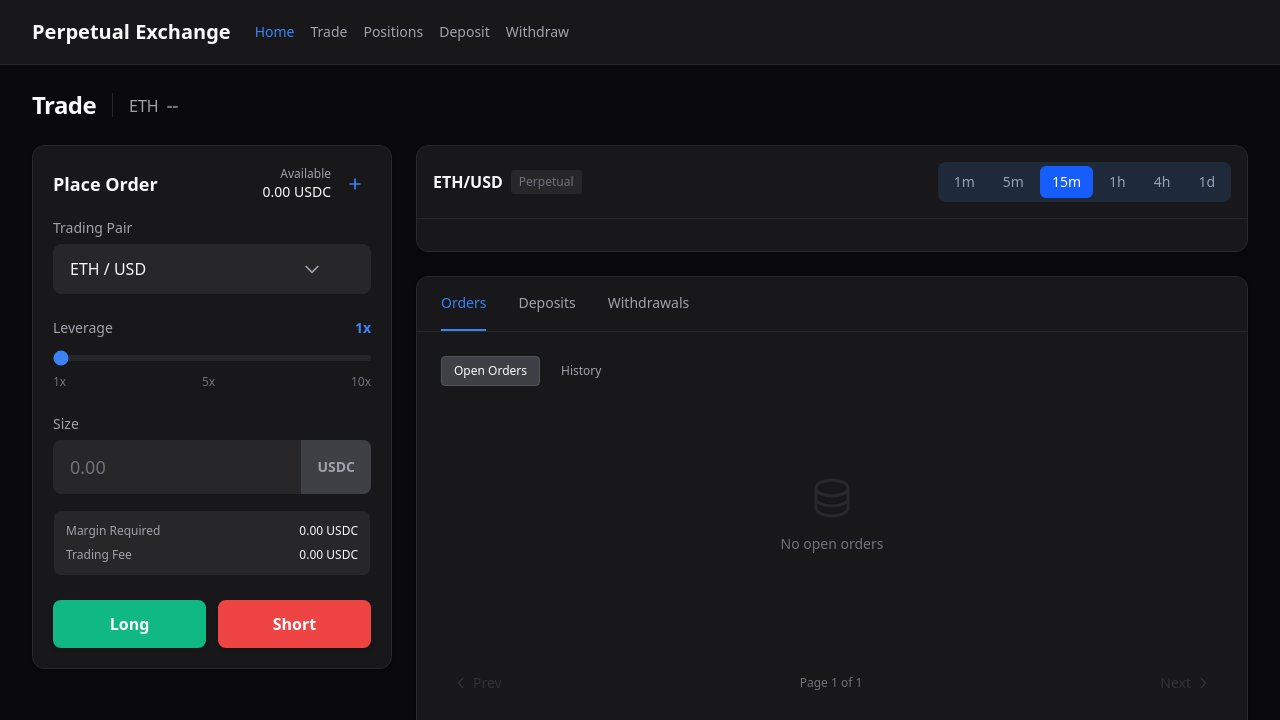
Scenario: TradePage › when user is connected › should allow changing leverage from 1x to 10x
Set the slider labelled "Leverage" to "10" at (363, 358), box [53,355,371,361]
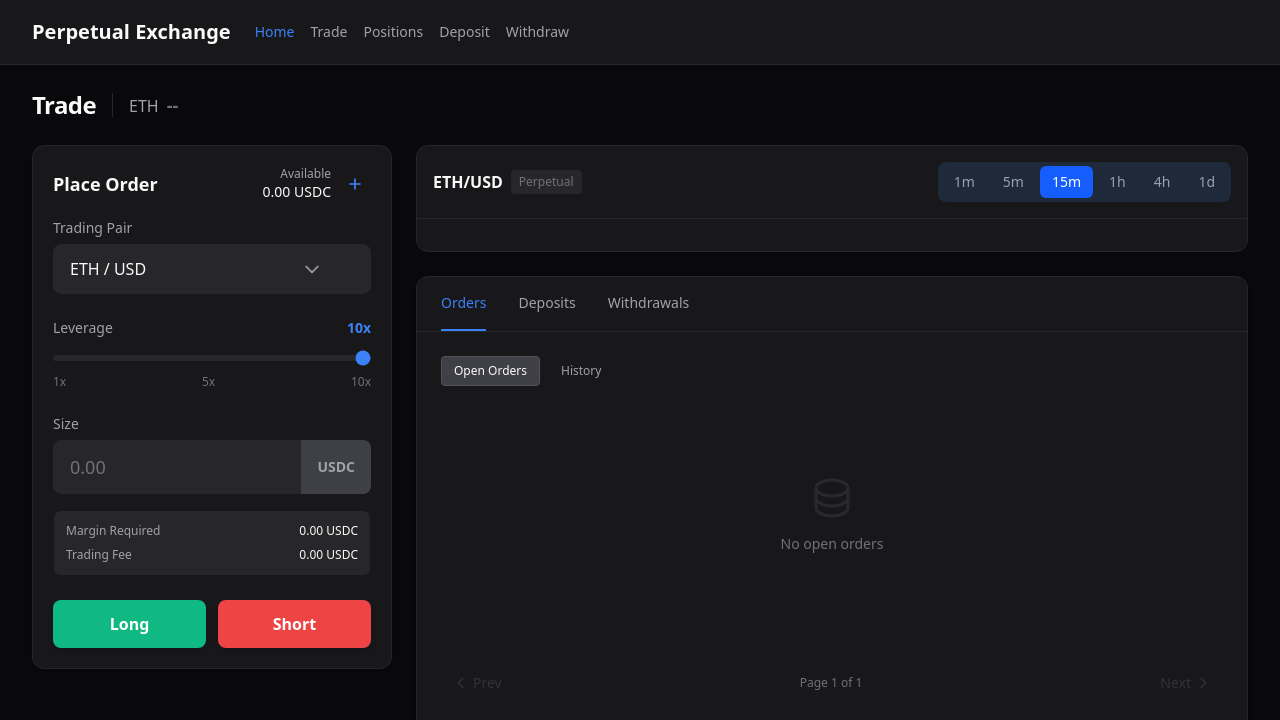
expect the text with class "font-bold" in the row of "Leverage" reads "10x": met, box [347,318,371,338]
